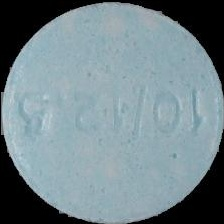66116-300: (0, 0, 224, 224)
